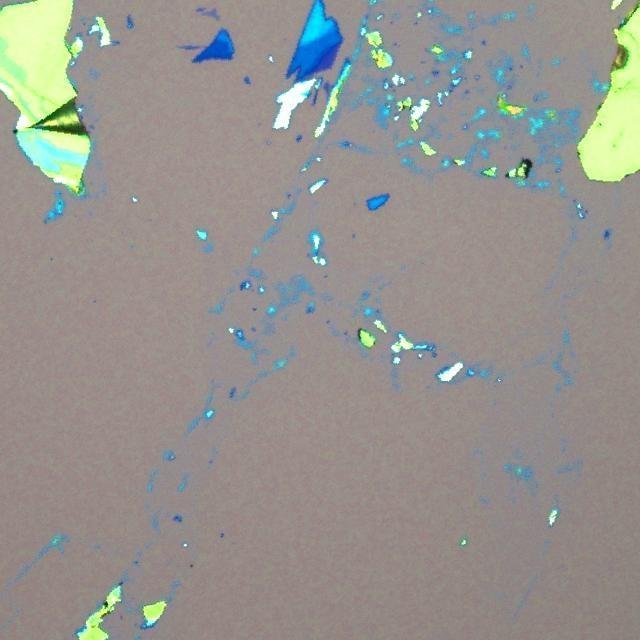monolayer-eWW4: (200, 6, 220, 20)
